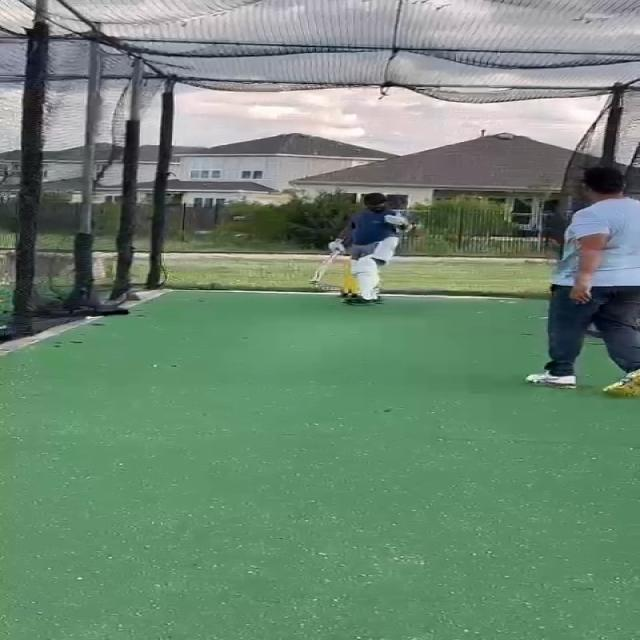batsman: (307, 192, 416, 308)
